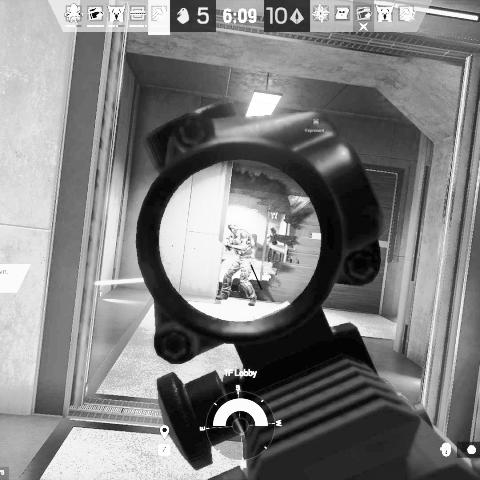Character: (214, 221, 259, 307), (266, 227, 280, 264)
Friend_label: (304, 117, 328, 134), (264, 211, 284, 227)
Head: (227, 221, 239, 236), (270, 228, 277, 236)
